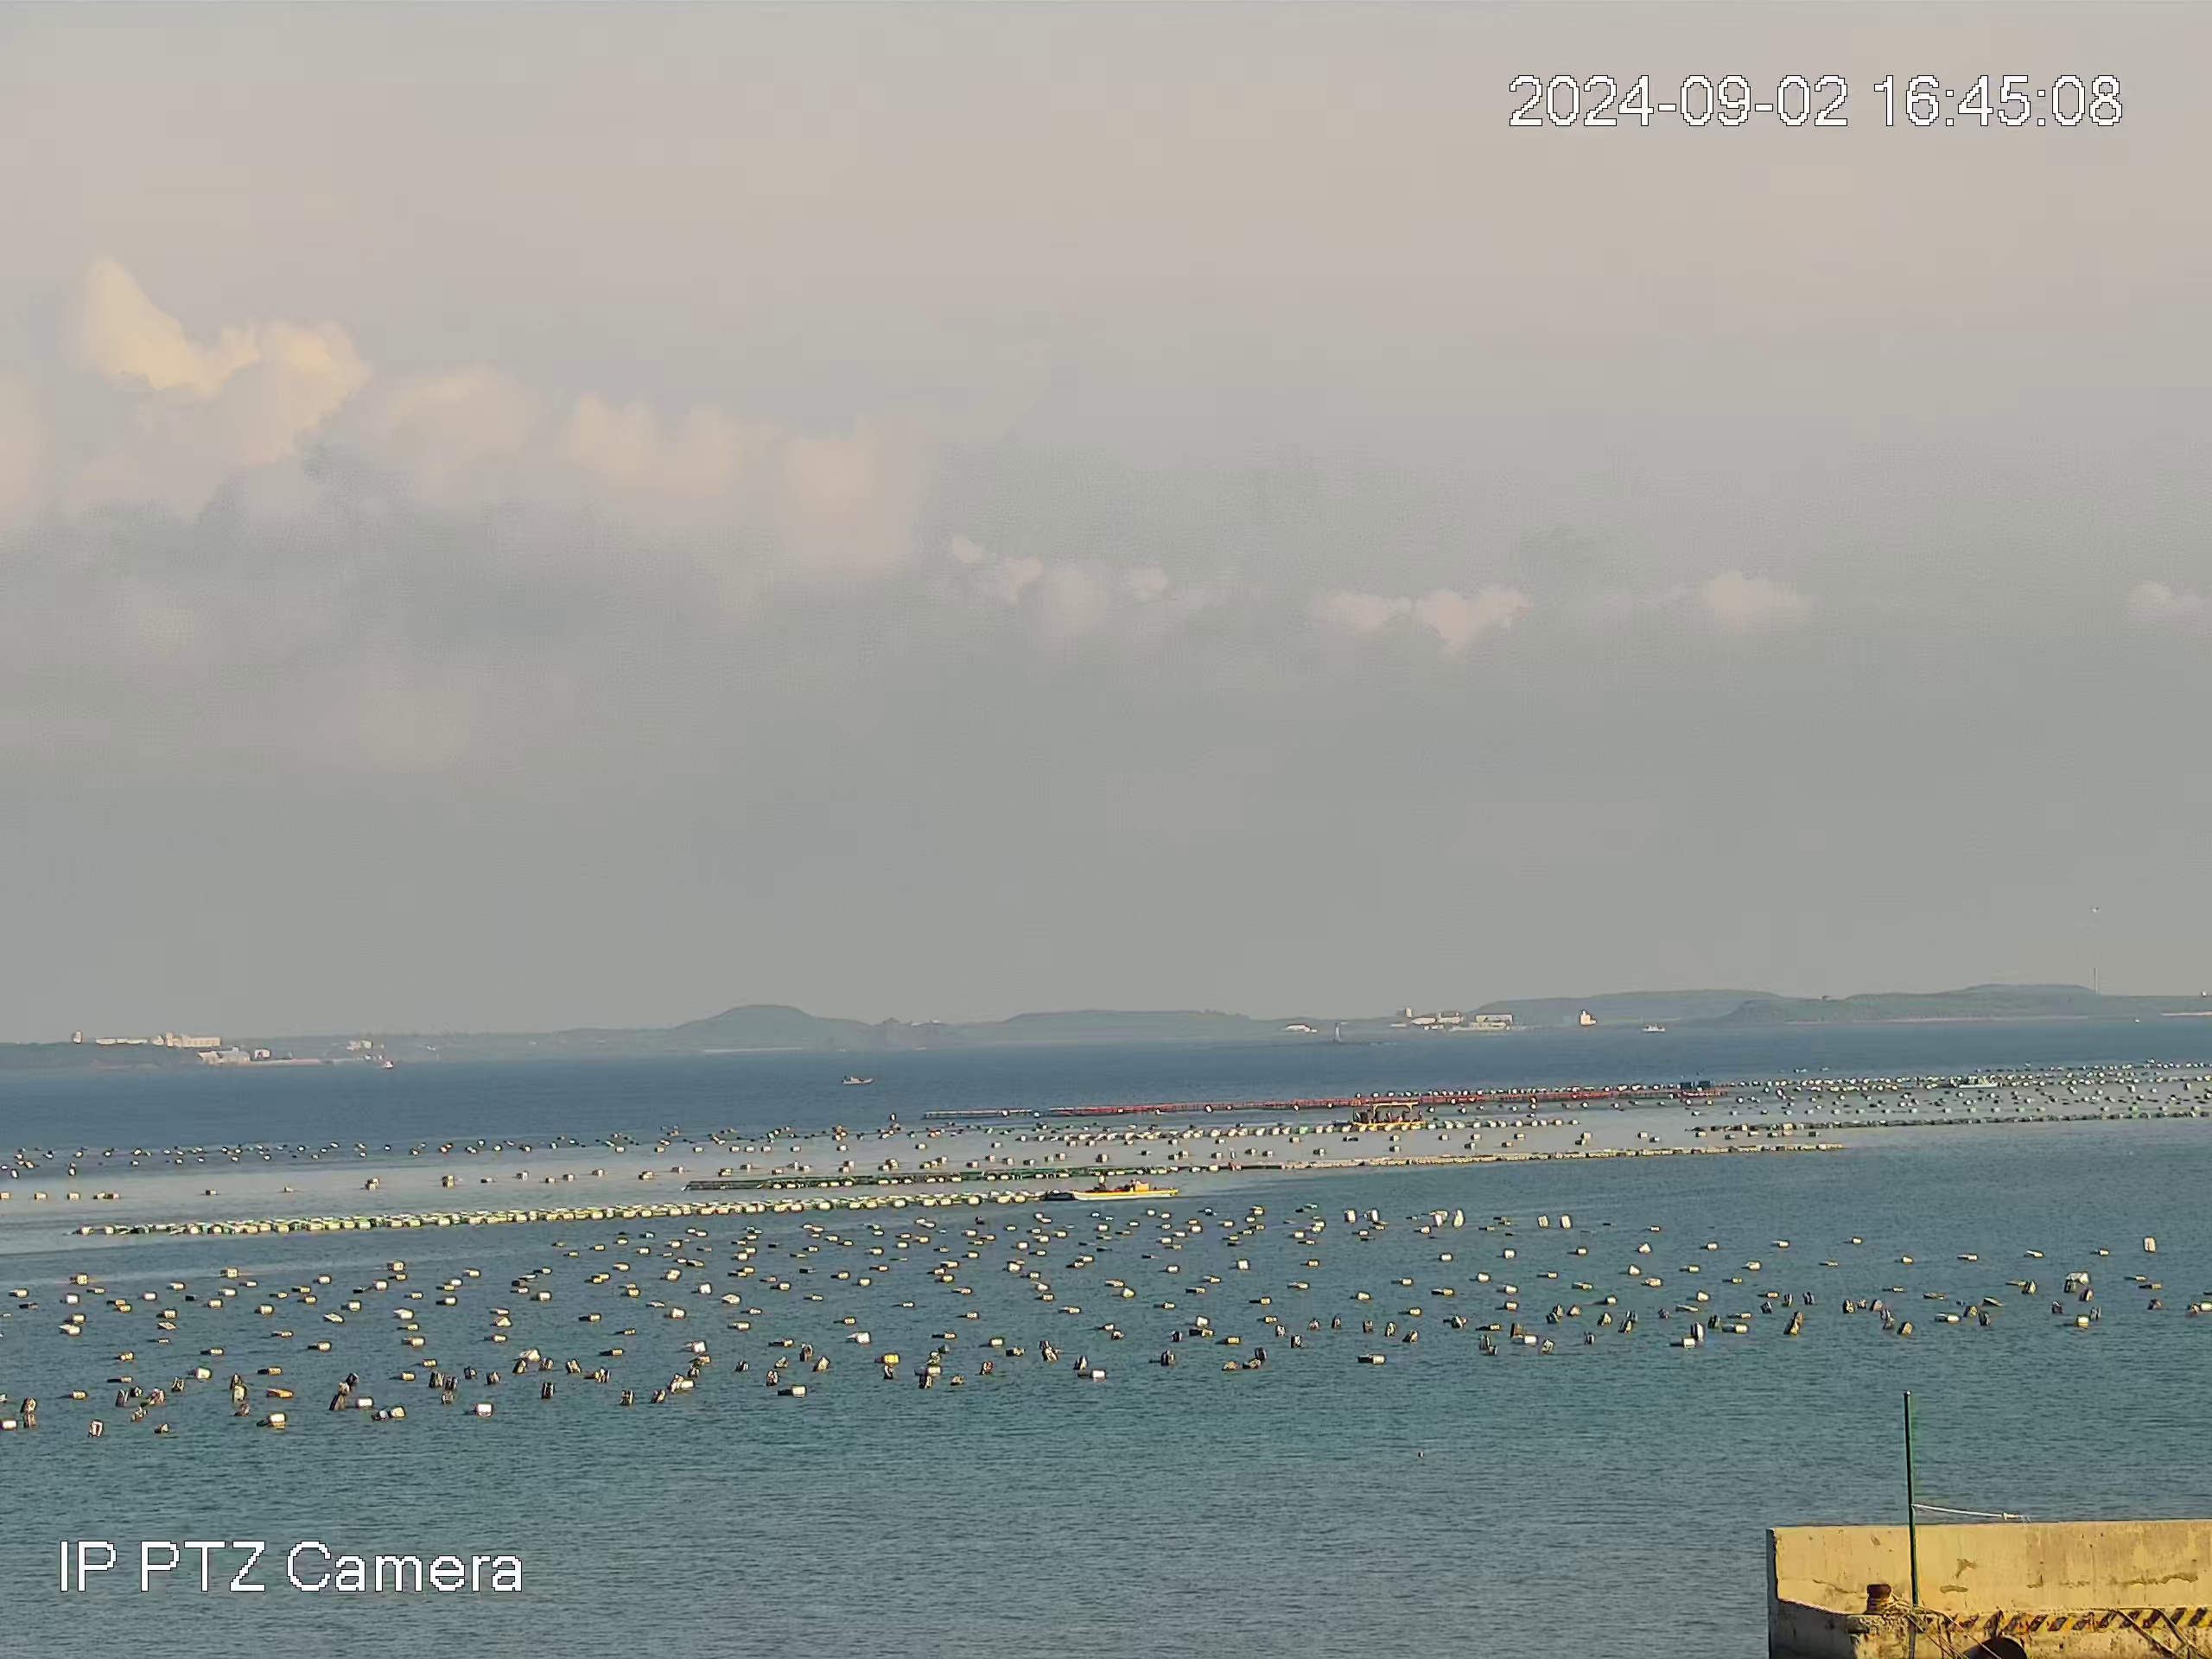boat: (1038, 1171, 1179, 1202), (1348, 1100, 1426, 1127), (1958, 1073, 1998, 1089), (840, 1073, 874, 1086)
